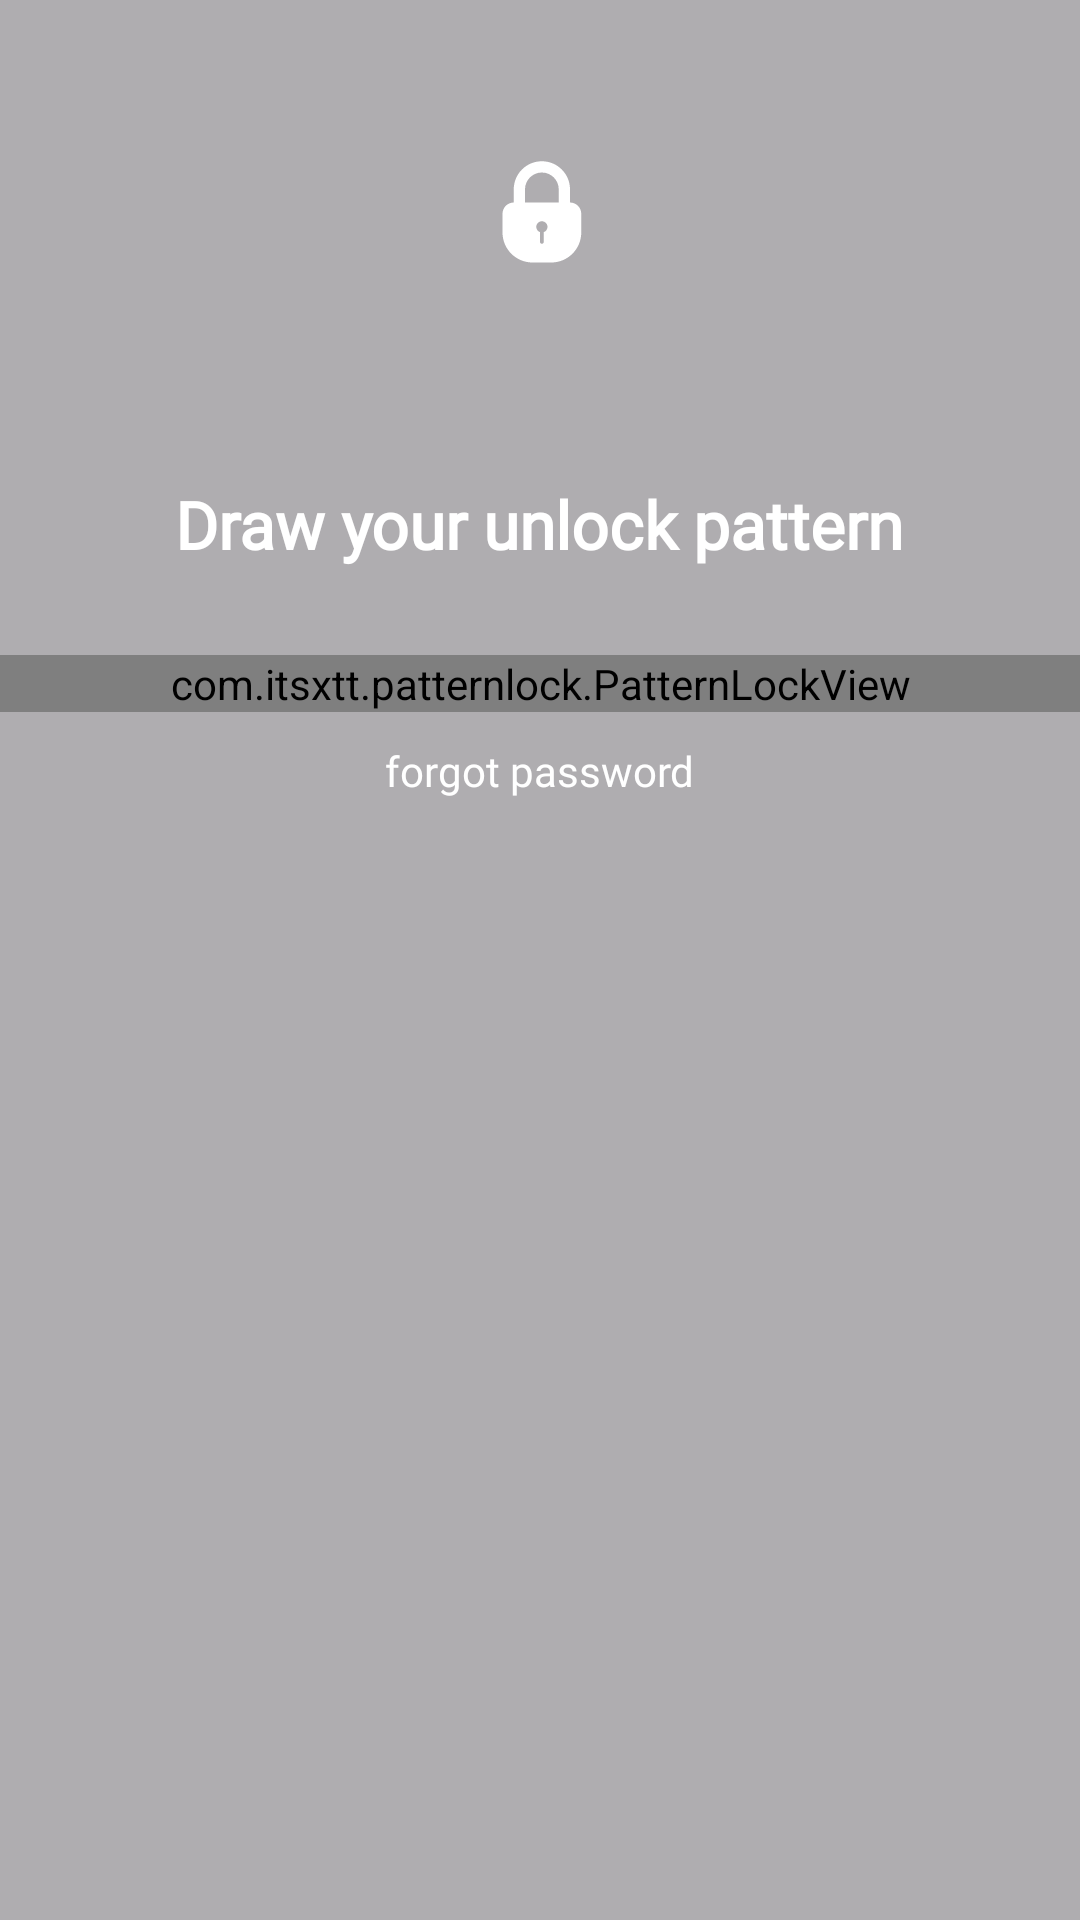

Icons on this 1080x1920 Android screen, each with the point to tap as (x,y):
lock: (541,212)
